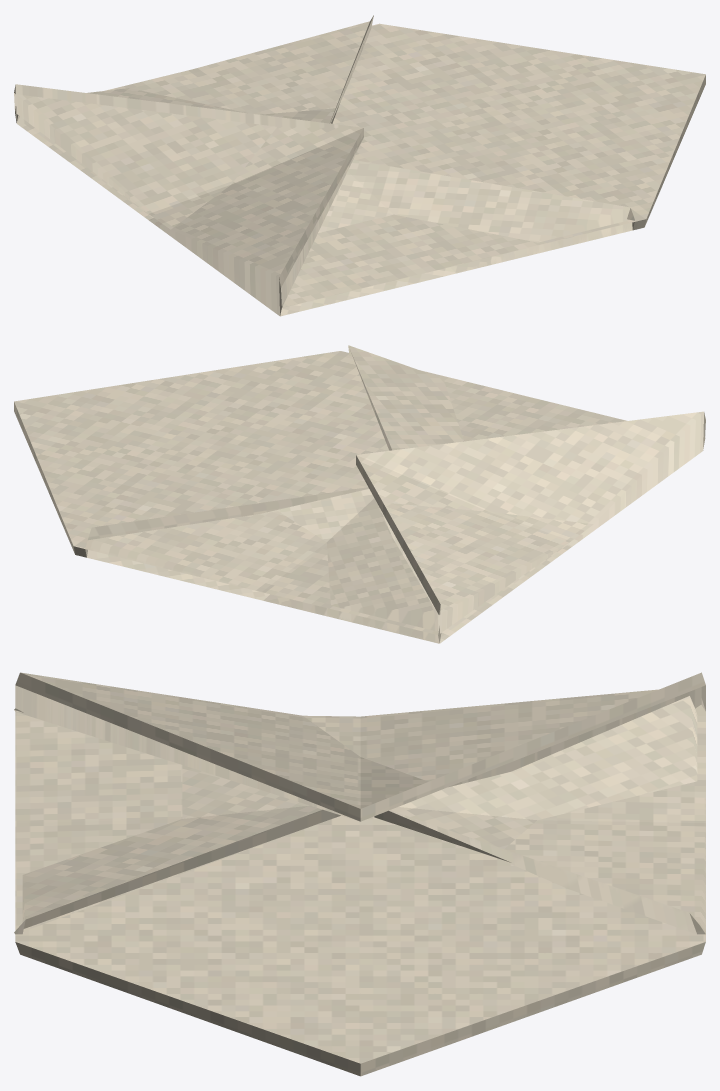
Rendered from letter.fbx.
3 renders of one model, top to bottom at view 1: azimuth 30°, elevation 25°; view 2: azimuth 150°, elevation 25°; view 3: azimuth 270°, elevation 25°, orthographic. The views are drawn at different scales.
Parts seen in each view (by area): view 1: Cube; view 2: Cube; view 3: Cube.
Part boxes in pixels (x1,y1,x2,y2): Cube: (14,15,705,316); Cube: (14,345,705,643); Cube: (14,672,705,1076).
Bounding box in the file's own units: 19.49 × 1.33 × 16.16.
